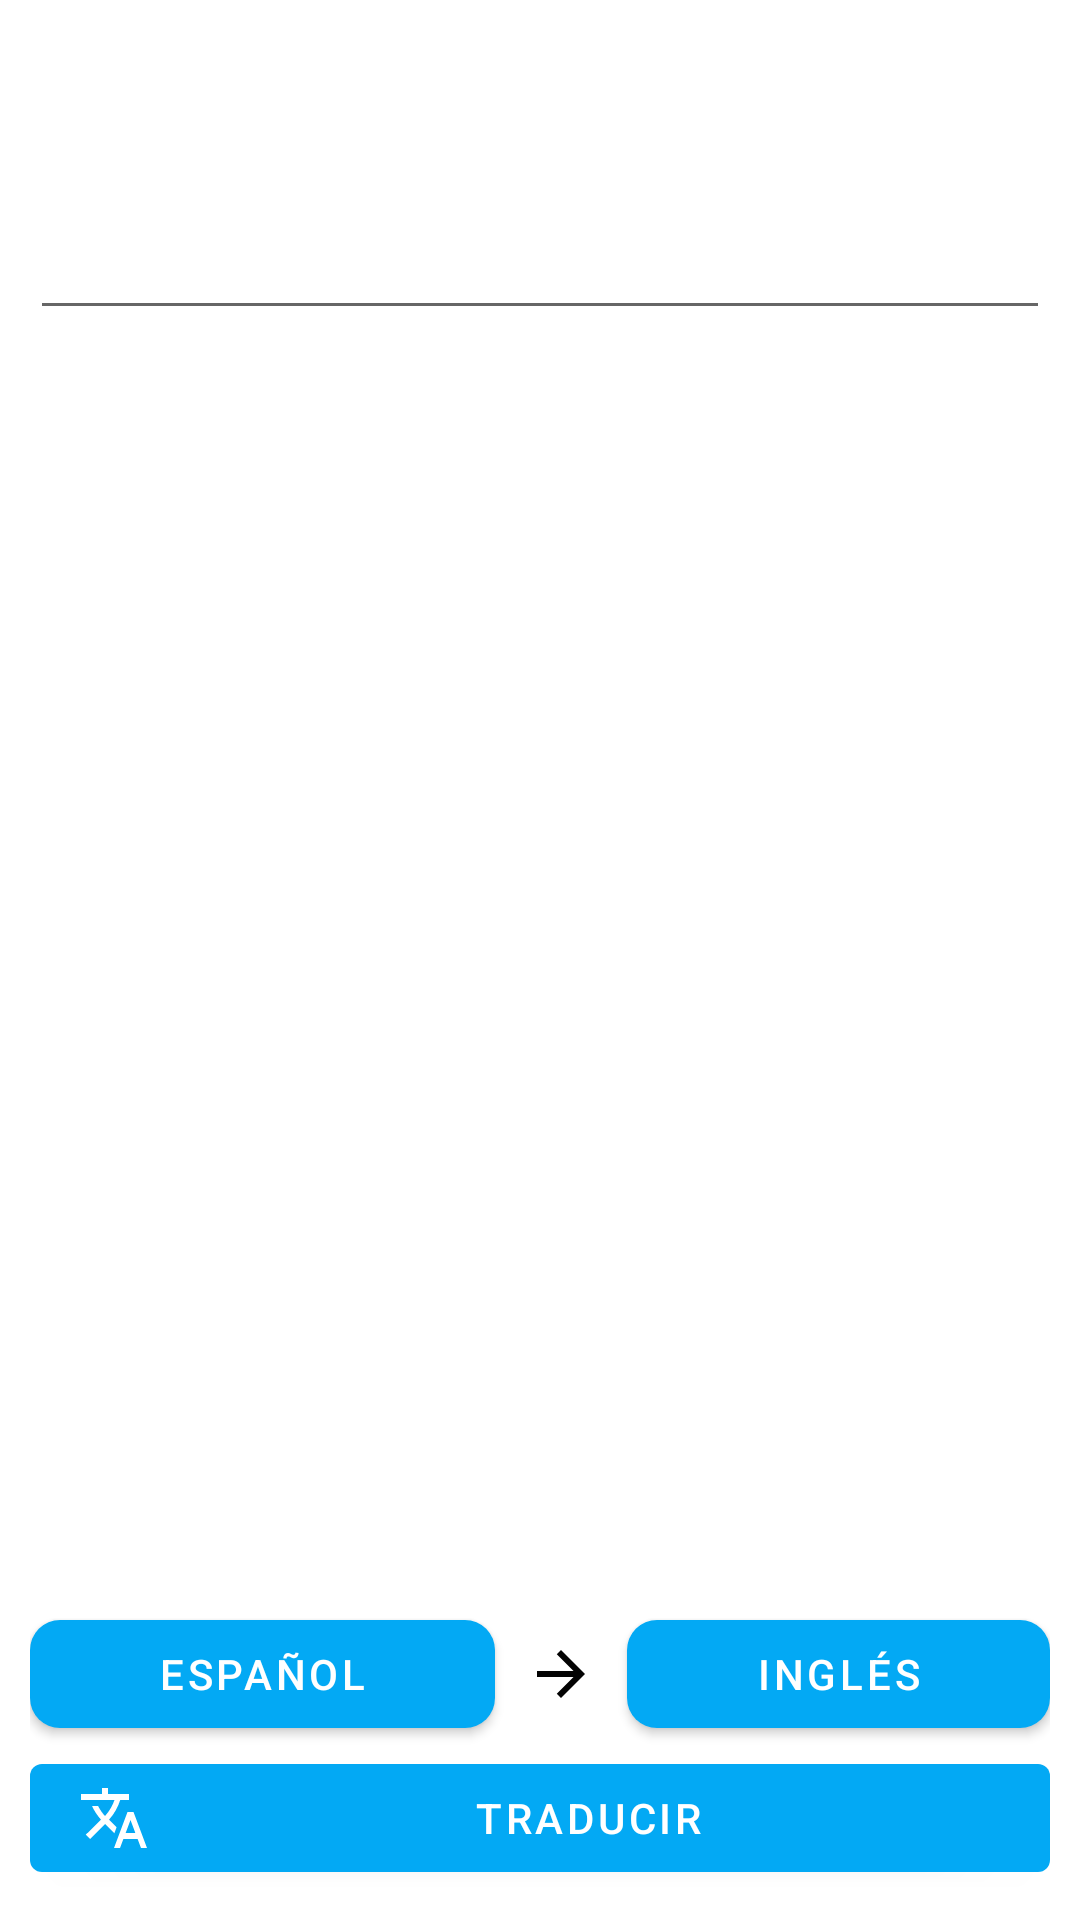

Screen size 1080w x 1920h. Icon name, then its box in pixels as bbox(x1, y1, x2, y2):
forward: bbox(537, 1650, 585, 1698)
